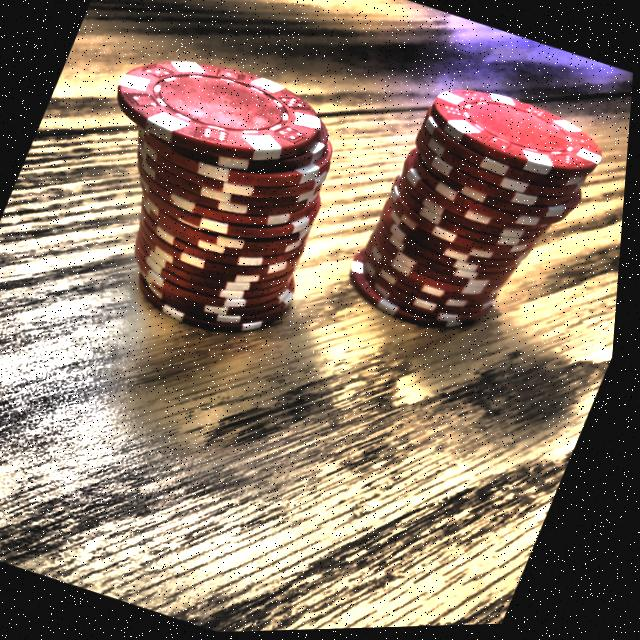Chip: (38, 31, 382, 360), (336, 68, 621, 366)
